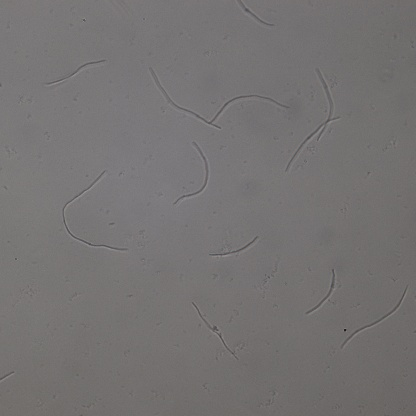Sensitive: (61, 170, 128, 251), (153, 67, 221, 129), (340, 285, 408, 345), (286, 116, 340, 170), (193, 303, 238, 360), (212, 90, 289, 122), (173, 142, 211, 205), (311, 67, 336, 145), (47, 58, 108, 86), (304, 269, 336, 315), (239, 1, 275, 31), (210, 237, 259, 258)
